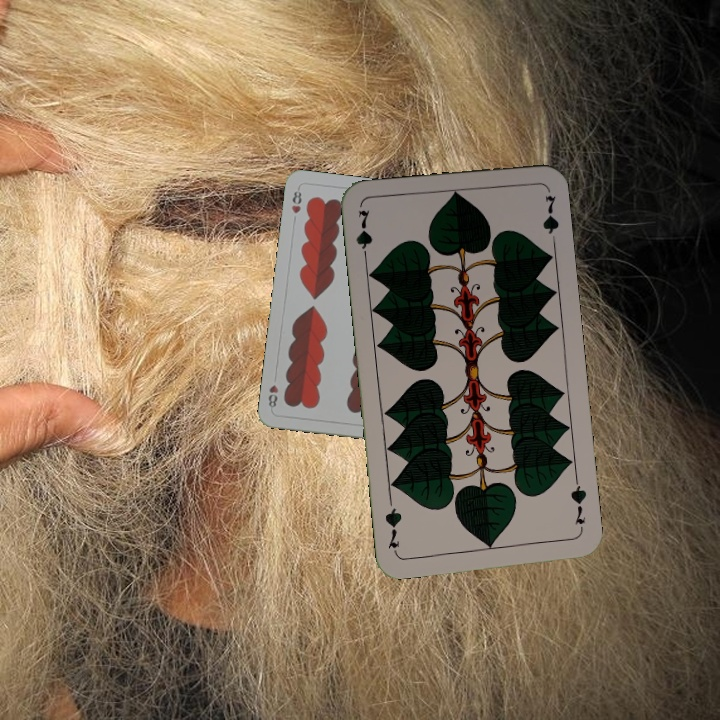G7: (352, 206, 375, 265), (566, 475, 589, 527)
H8: (287, 184, 304, 216)
